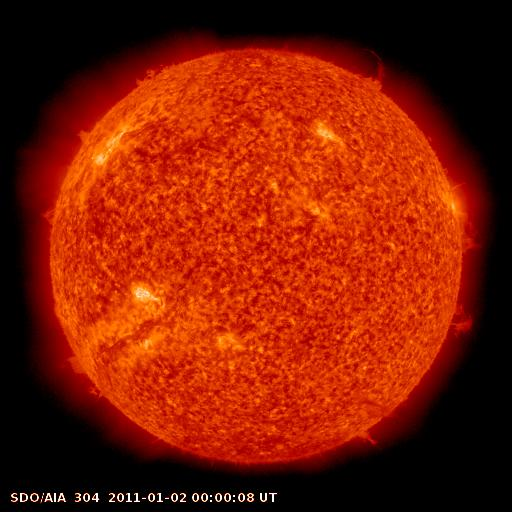prominence: (446, 171, 501, 254), (58, 341, 109, 400), (352, 37, 397, 94), (439, 289, 479, 350), (123, 53, 187, 91), (339, 416, 389, 458), (32, 199, 70, 239), (65, 118, 104, 153)
